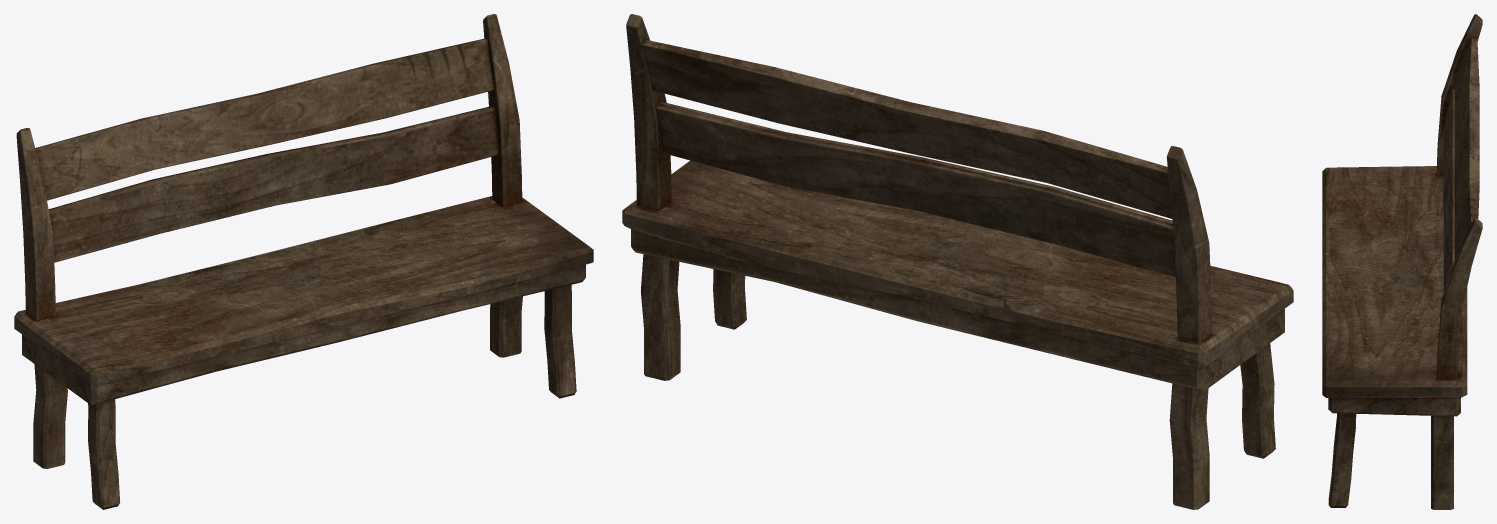
File: bench.glb
3 renders of one model, left to right at view 1: azimuth 30°, elevation 25°; view 2: azimuth 150°, elevation 25°; view 3: azimuth 270°, elevation 25°, orthographic. The views are drawn at different scales.
Parts seen in each view (by area): view 1: bench_tri; view 2: bench_tri; view 3: bench_tri.
Part boxes in pixels (x1,y1,x2,y2): bench_tri: (14, 14, 593, 509); bench_tri: (622, 14, 1293, 509); bench_tri: (1322, 14, 1482, 509).
Bounding box in the file's own units: 2.06 × 1.26 × 0.6344.
Materials: 1 (1 with a texture image).
